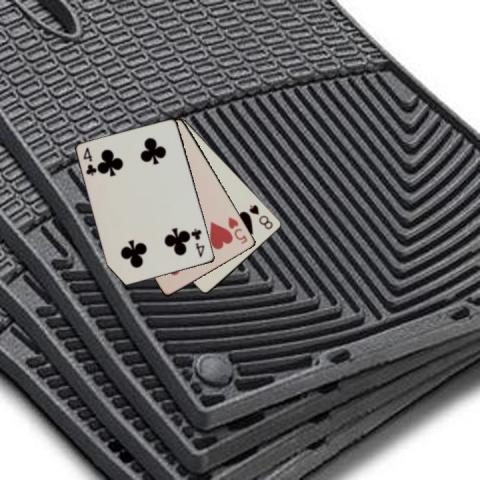4c: (80, 144, 98, 177), (189, 225, 206, 259)
5h: (226, 214, 250, 245)
8s: (246, 202, 275, 231)
